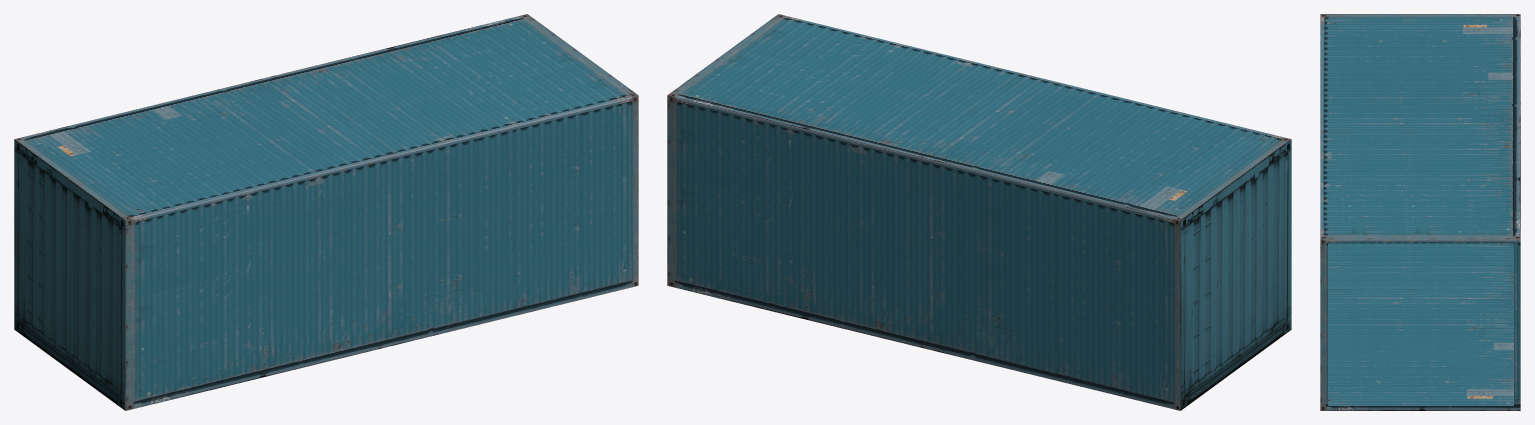
The model's file is Container010in.FBX.
The picture shows the model from 3 angles, left to right: view 1: azimuth 30°, elevation 25°; view 2: azimuth 150°, elevation 25°; view 3: azimuth 270°, elevation 25°; orthographic projection. The views are drawn at different scales.
Parts seen in each view (by area): view 1: Container010in; view 2: Container010in; view 3: Container010in.
Boxes of the visible parts, x1,y1,x2,y2 form: Container010in: (14, 14, 638, 410); Container010in: (667, 14, 1291, 410); Container010in: (1320, 14, 1520, 410).
Size of the model in its own units: 322 by 114 by 121.
